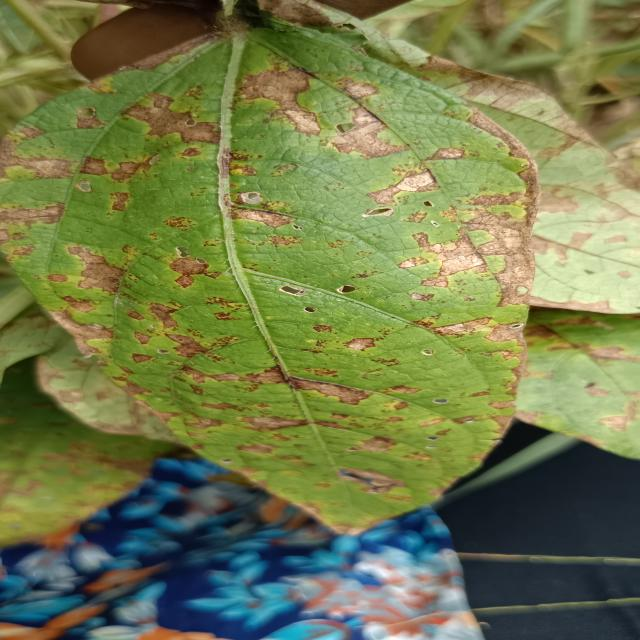Black gram_leaf spot: (0, 11, 556, 551)
